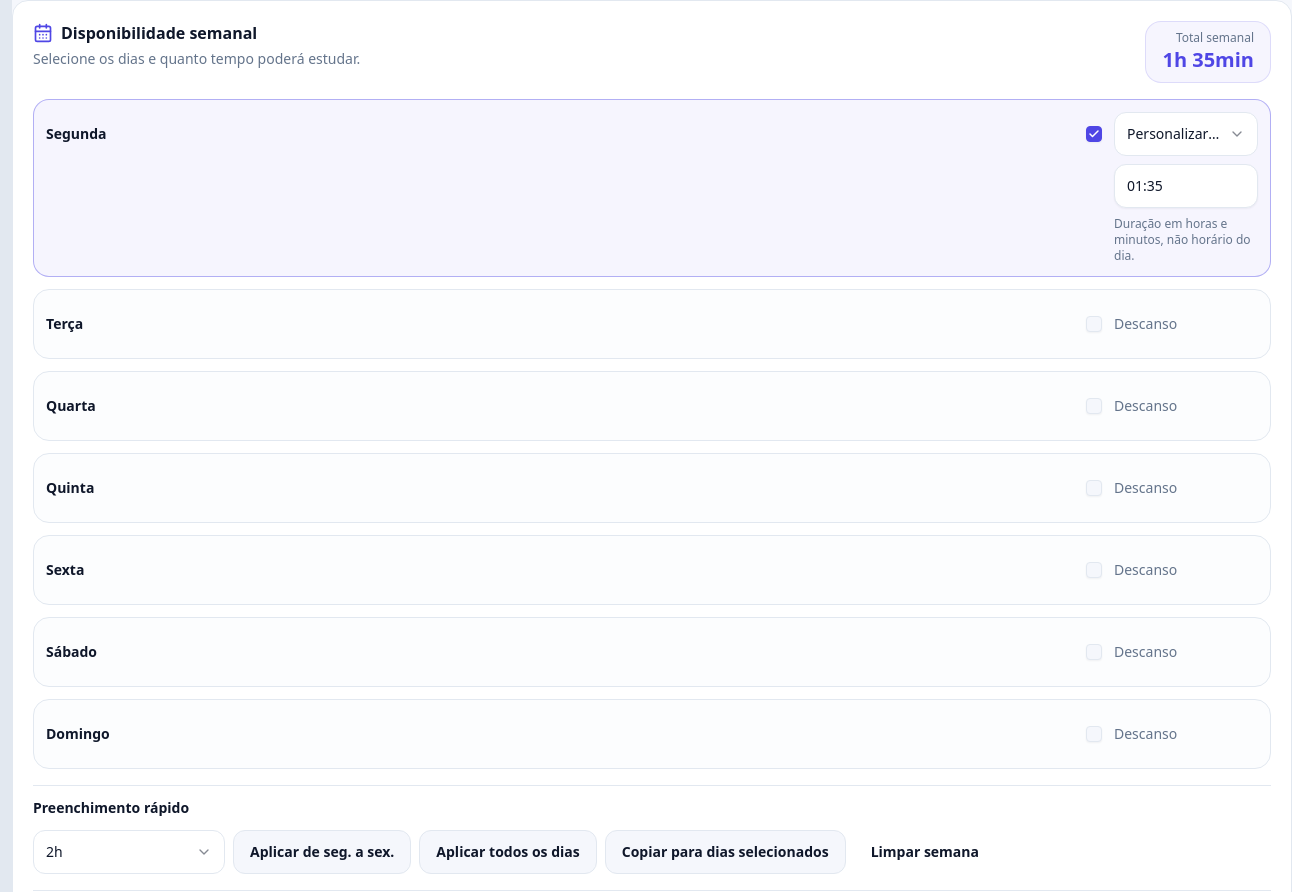
Test: descartar um dia inválido limpa o bloqueio e permite reativar a última duração válida
Replace the text in the field named "Duração personalizada de Segunda" with "00:75" at point(1186, 186), box [1114,164,1258,208]
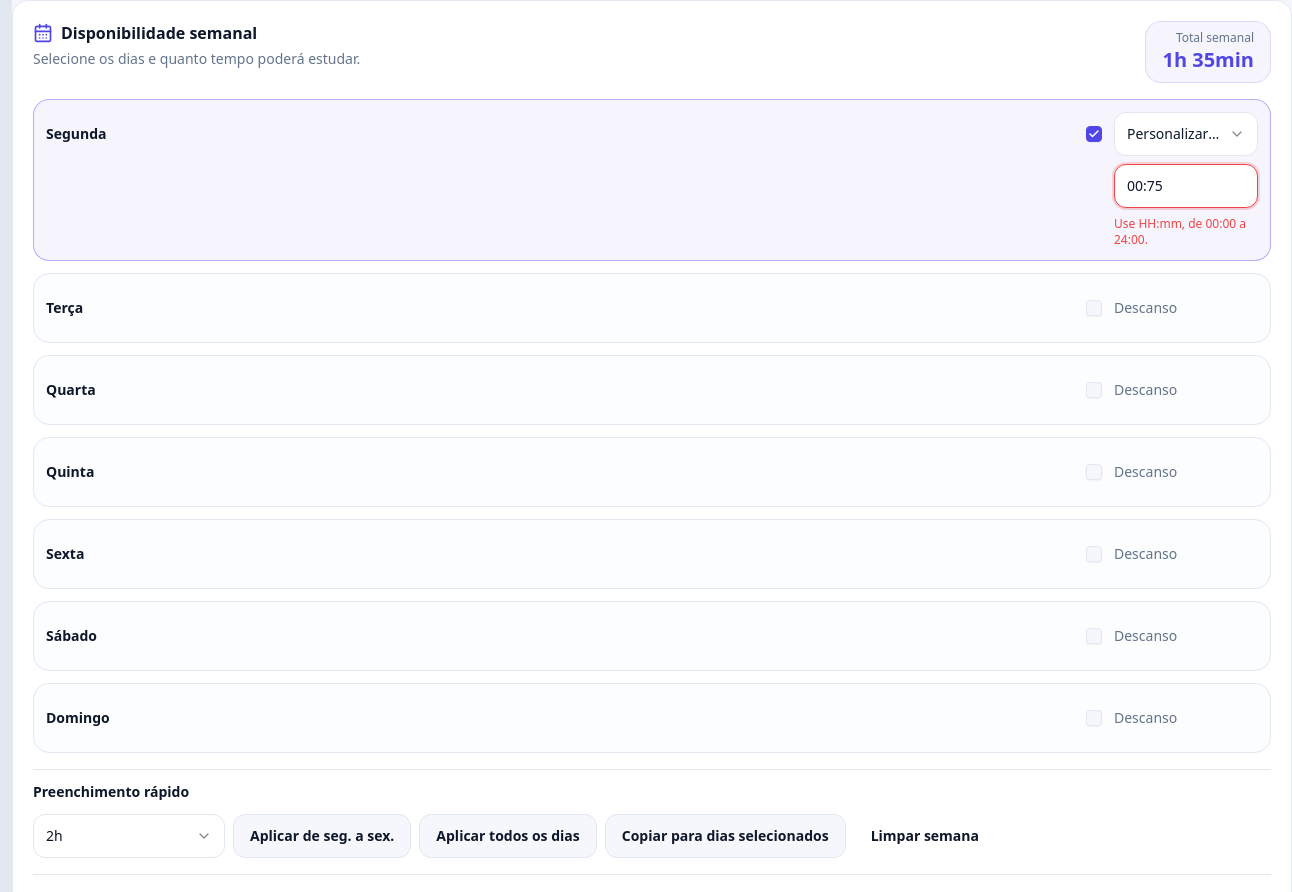
Click the checkbox named "Estudar na Segunda" at point(1094, 134), box [1086,126,1102,142]
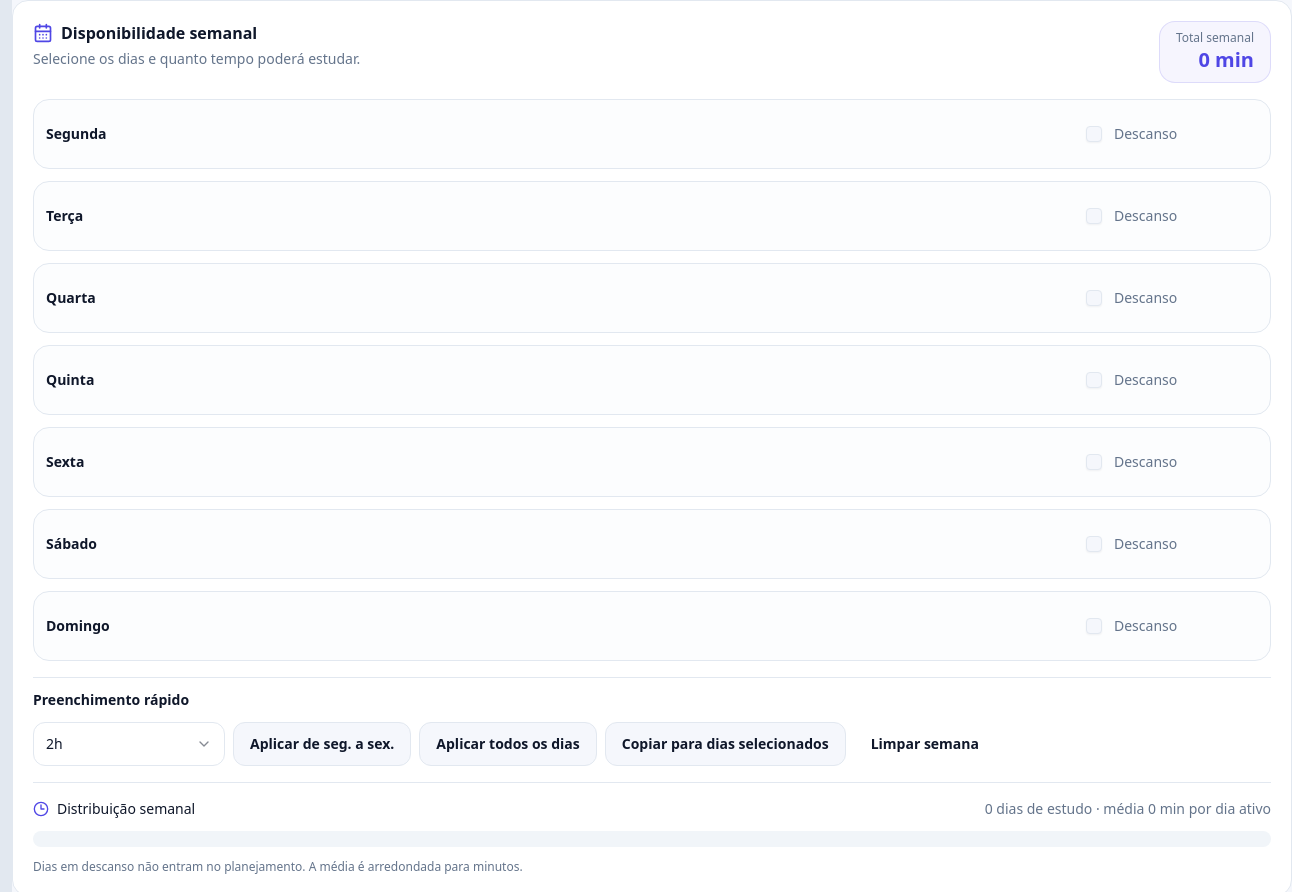
Click the checkbox named "Estudar na Segunda" at point(1094, 134), box [1086,126,1102,142]
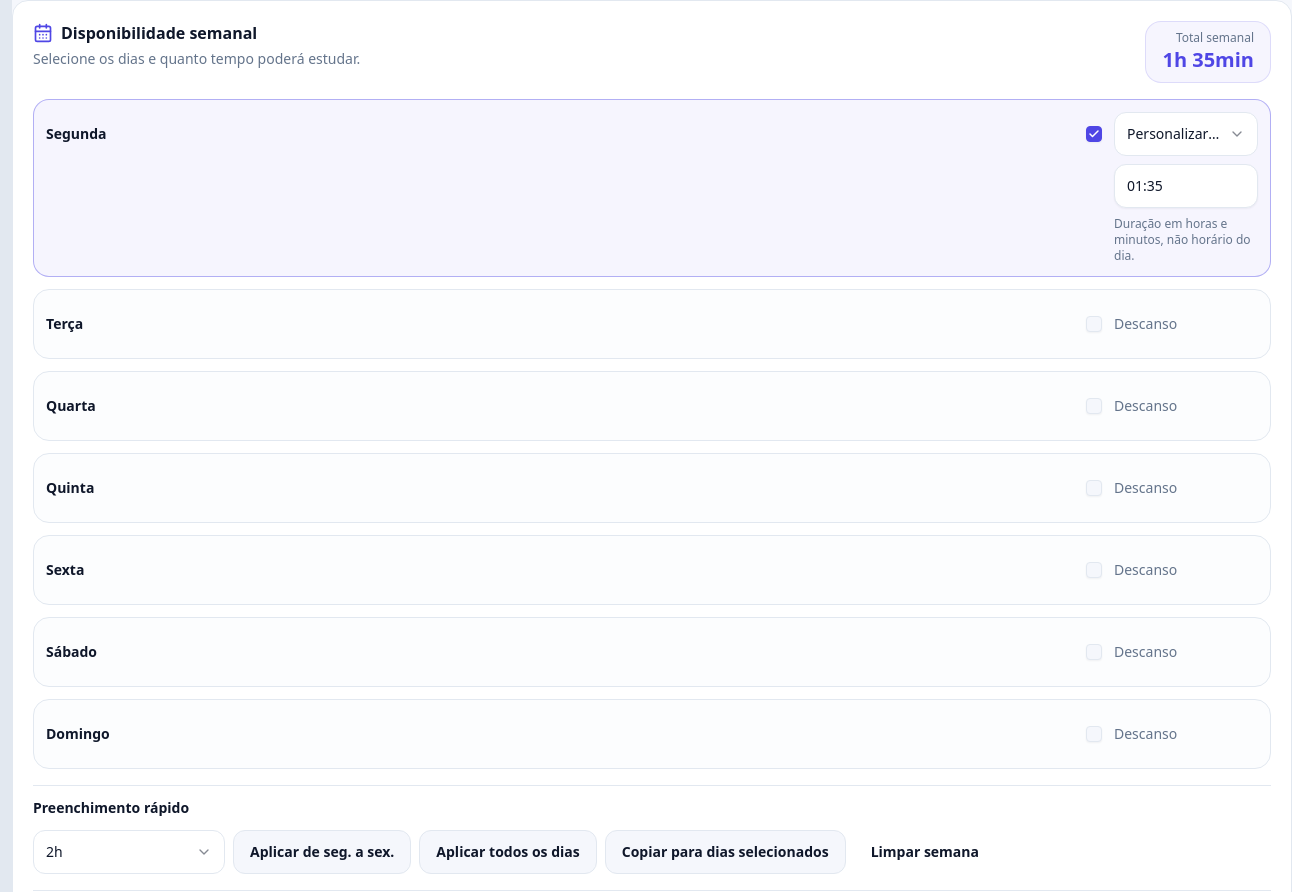
Expected: the field named "Duração personalizada de Segunda" holds "01:35", [1114,164,1258,208]
